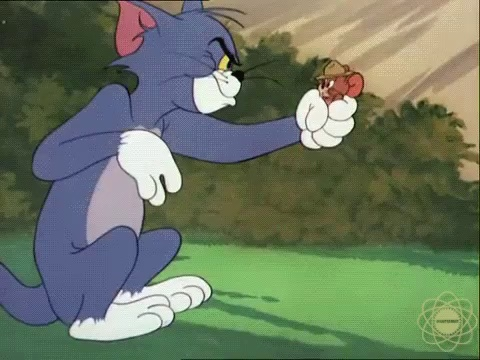tom: (3, 3, 358, 342)
